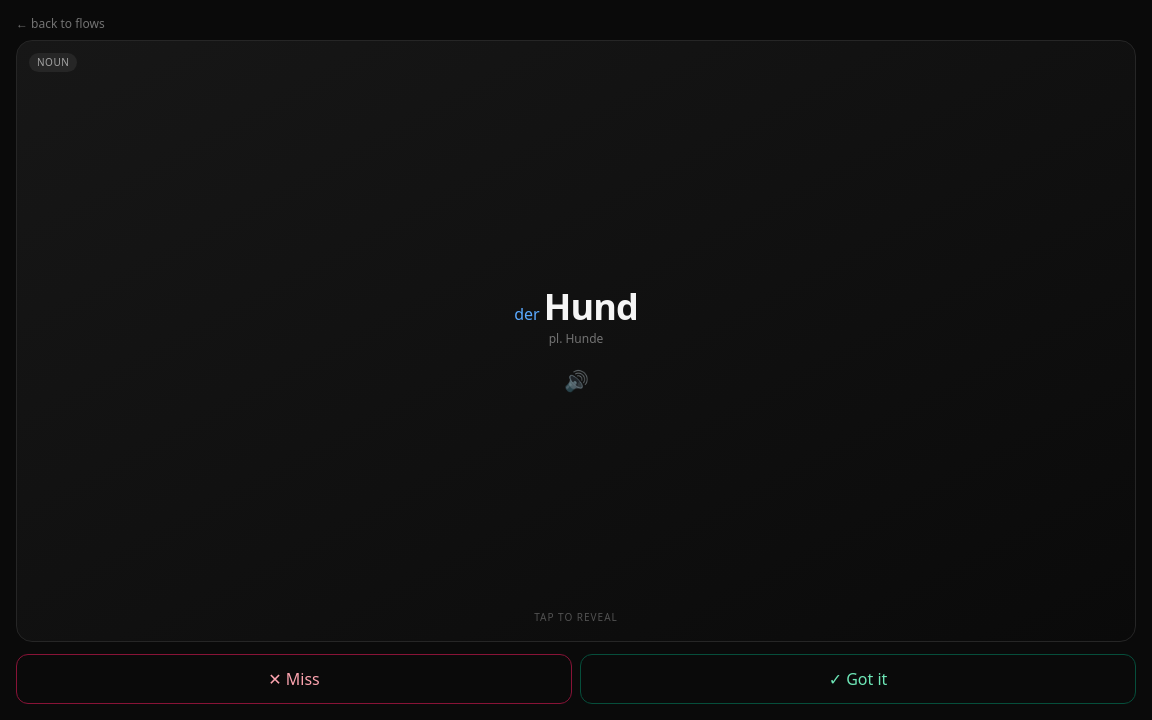
it: SwipeFlow › renders the lemma and reveals on click
Expected: the text "dog" is not shown
Click the text "Hund" at [591, 306], box [544, 282, 638, 331]
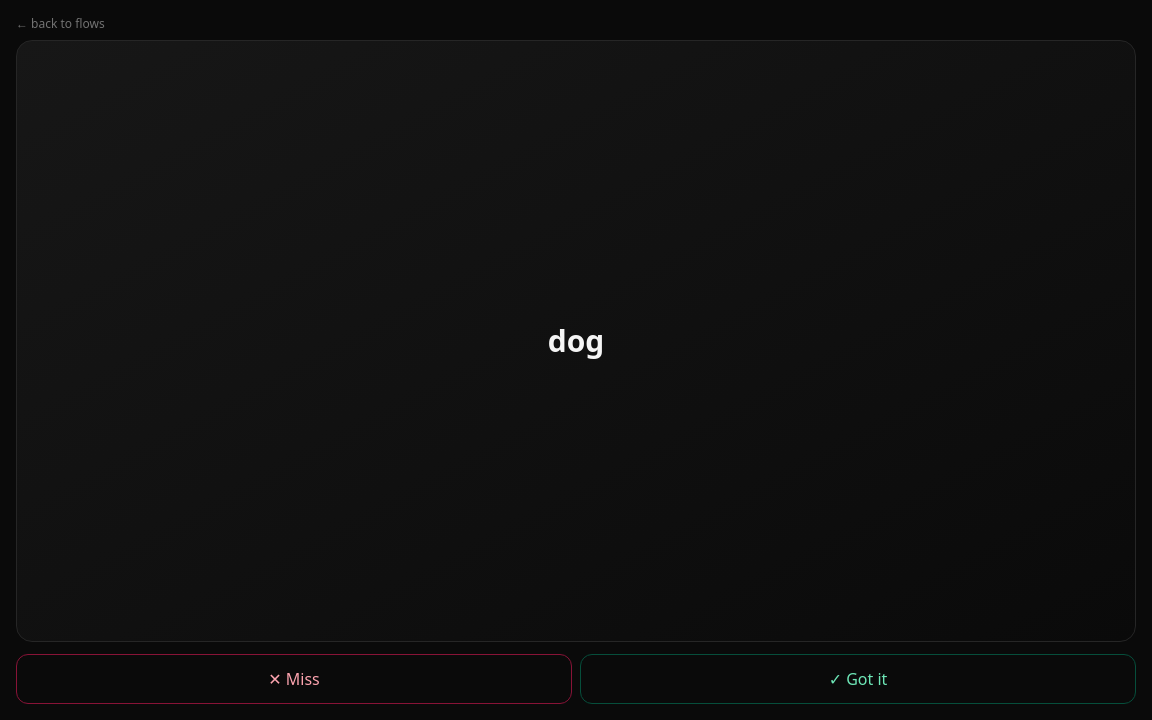
Now the text "dog" is shown, box [548, 323, 604, 359]
